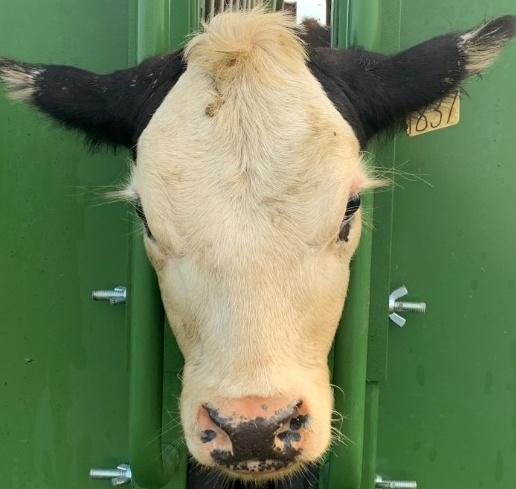muzzles: (163, 388, 343, 483)
